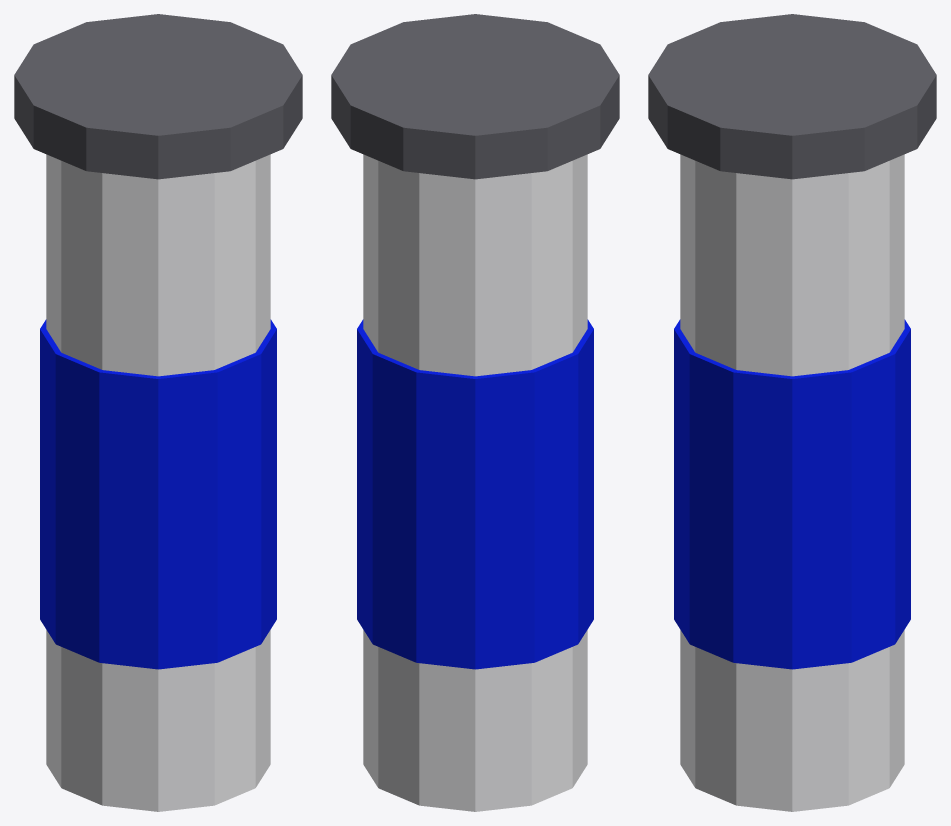
The model's file is AdrenalineBlue.fbx.
3 views of the same model, side by side, from view 1: azimuth 30°, elevation 25°; view 2: azimuth 150°, elevation 25°; view 3: azimuth 270°, elevation 25° (orthographic).
Visible parts, largest first — view 1: Item_Adrenaline, Cylinder, Cylinder.001; view 2: Item_Adrenaline, Cylinder, Cylinder.001; view 3: Item_Adrenaline, Cylinder, Cylinder.001.
Part boxes in pixels (<box>): Item_Adrenaline: <box>46,154,270,811</box>; Cylinder: <box>40,319,276,669</box>; Cylinder.001: <box>14,14,302,179</box>; Item_Adrenaline: <box>363,154,587,811</box>; Cylinder: <box>357,319,593,669</box>; Cylinder.001: <box>331,14,619,179</box>; Item_Adrenaline: <box>680,154,904,811</box>; Cylinder: <box>674,319,910,669</box>; Cylinder.001: <box>648,14,936,179</box>.
Bounding box in the file's own units: 0.09 × 0.09 × 0.2375.
